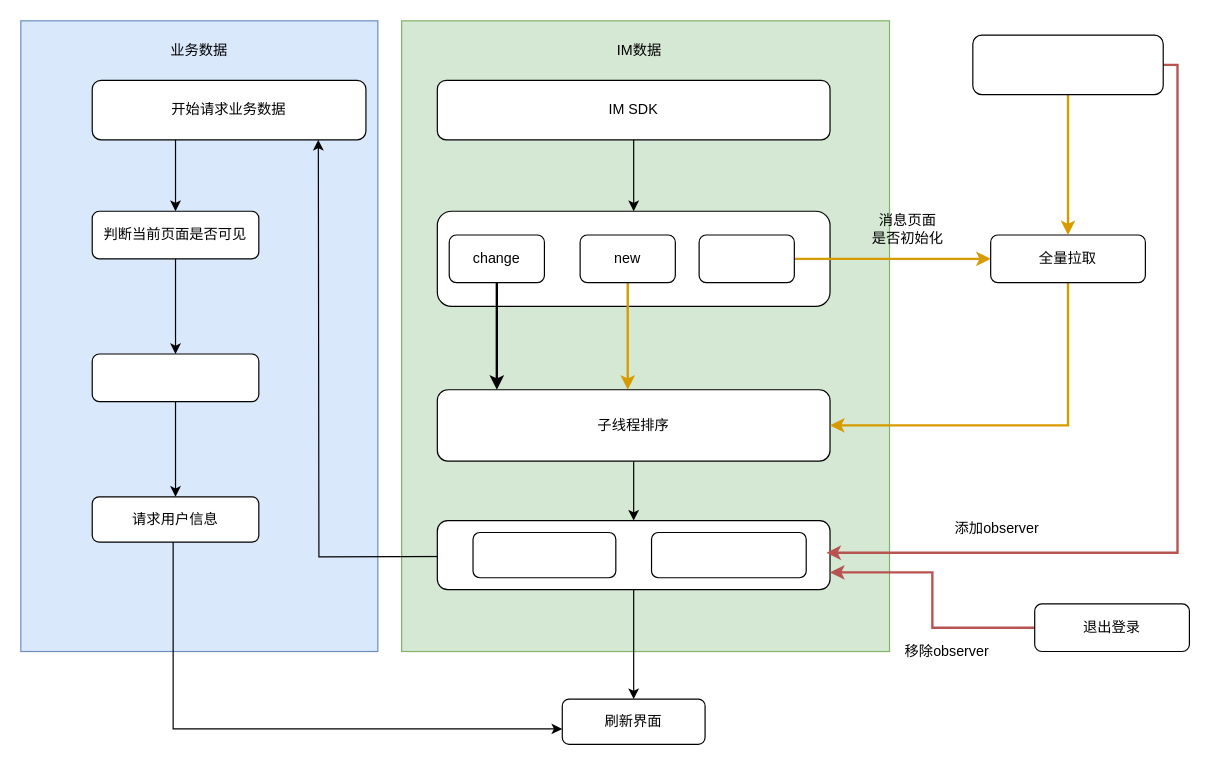
This 1210x765 diagram has some shape labels left out. Here are the shapes that lost their labels. From the top down, the box of each, then its label:
(972, 34, 1163, 95): 进入入消息页面
(698, 234, 794, 283): finish
(91, 353, 259, 402): 判断间隔大于60s
(472, 531, 616, 578): 消息observer
(650, 531, 806, 578): 打招呼observer
